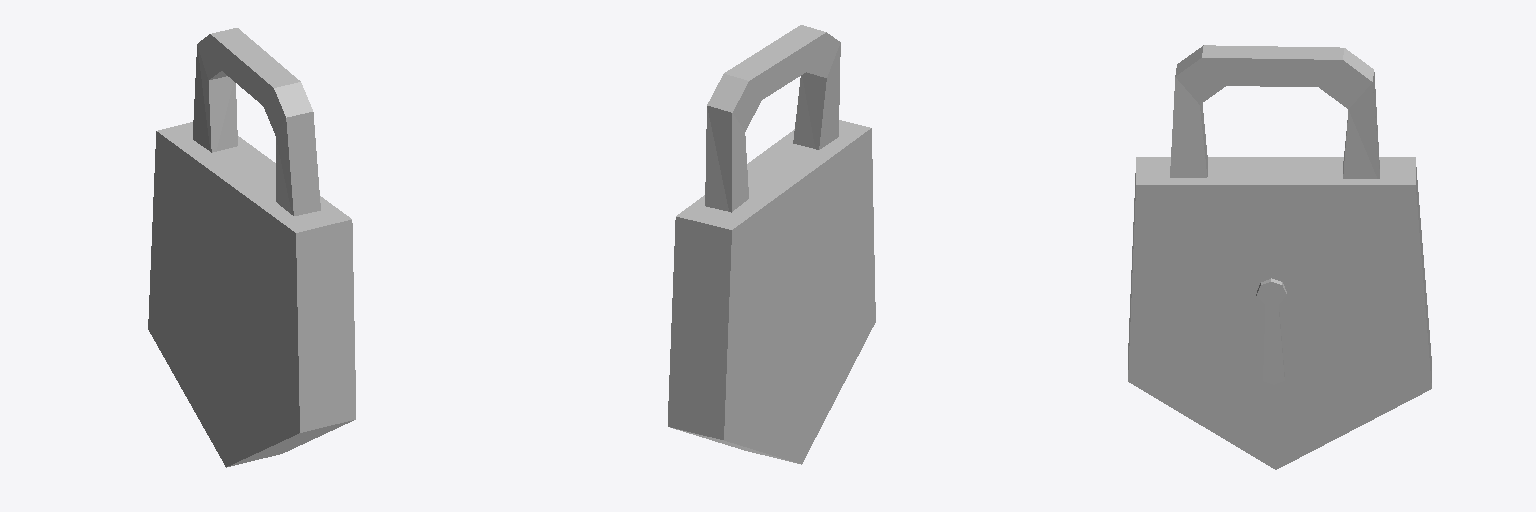
The model's file is lock_1.obj.
The picture shows the model from 3 angles: view 1: azimuth 30°, elevation 25°; view 2: azimuth 150°, elevation 25°; view 3: azimuth 270°, elevation 25°; orthographic projection.
Parts seen in each view (by area): view 1: group[number redacted], group[number redacted]; view 2: group[number redacted], group[number redacted]; view 3: group[number redacted], group[number redacted], group[number redacted].
Part boxes in pixels (x1,y1,x2,y2): group[number redacted]: (148, 122, 355, 467); group[number redacted]: (193, 28, 320, 215); group[number redacted]: (668, 120, 875, 464); group[number redacted]: (705, 25, 840, 212); group[number redacted]: (1128, 157, 1431, 469); group[number redacted]: (1170, 45, 1379, 178); group[number redacted]: (1256, 278, 1286, 384).
Size of the model in its own units: 0.0905 by 0.5481 by 0.3731.